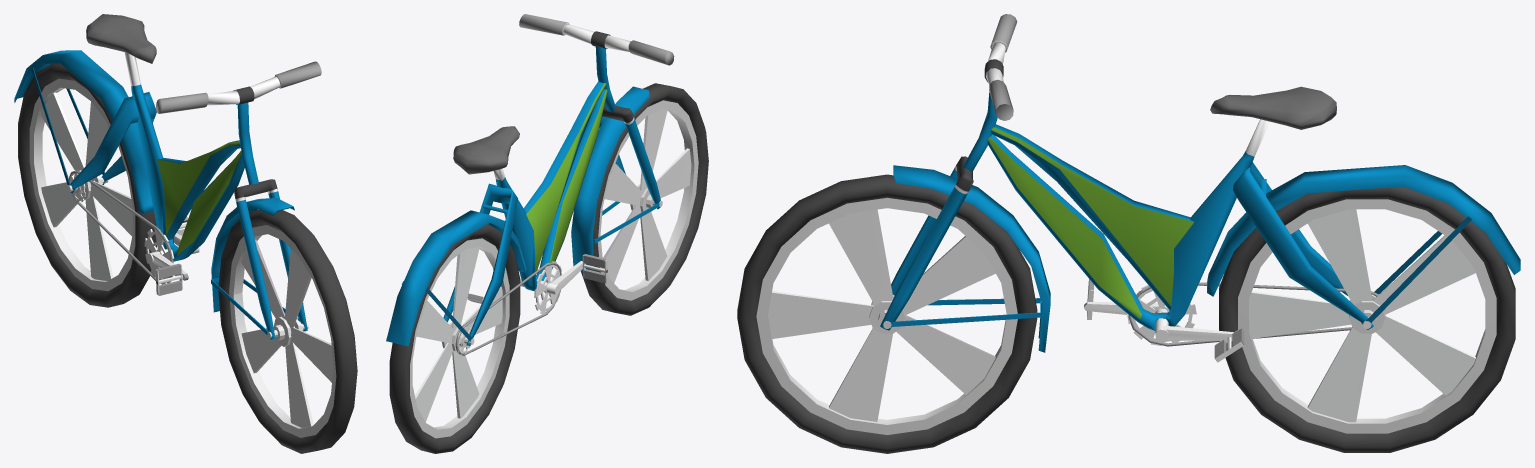
The model's file is BiciElectric.fbx.
3 renders of one model, left to right at view 1: azimuth 30°, elevation 25°; view 2: azimuth 150°, elevation 25°; view 3: azimuth 270°, elevation 25°, orthographic. The views are drawn at different scales.
Parts seen in each view (by area): view 1: Bike_LOD00; view 2: Bike_LOD00; view 3: Bike_LOD00.
Boxes of the visible parts, <box> form: Bike_LOD00: <box>14,14,357,453</box>; Bike_LOD00: <box>386,14,708,453</box>; Bike_LOD00: <box>737,14,1520,453</box>.
Size of what is drawn, in the model's own units: 49.48 by 96.68 by 175.
